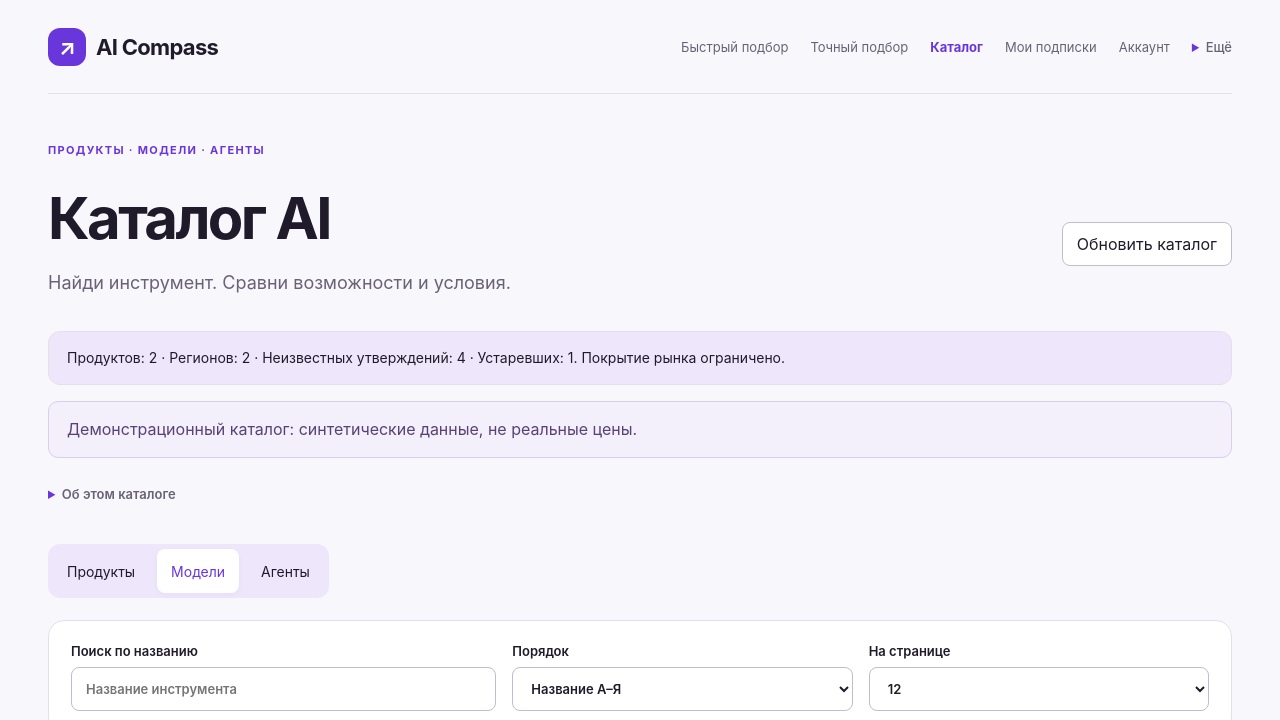
Test: separates models and agents from purchasable products
This screenshot has width=1280, height=720.
Click the button "Агенты": (285, 571) x1=247 y1=549 x2=324 y2=593
(page scrolled)
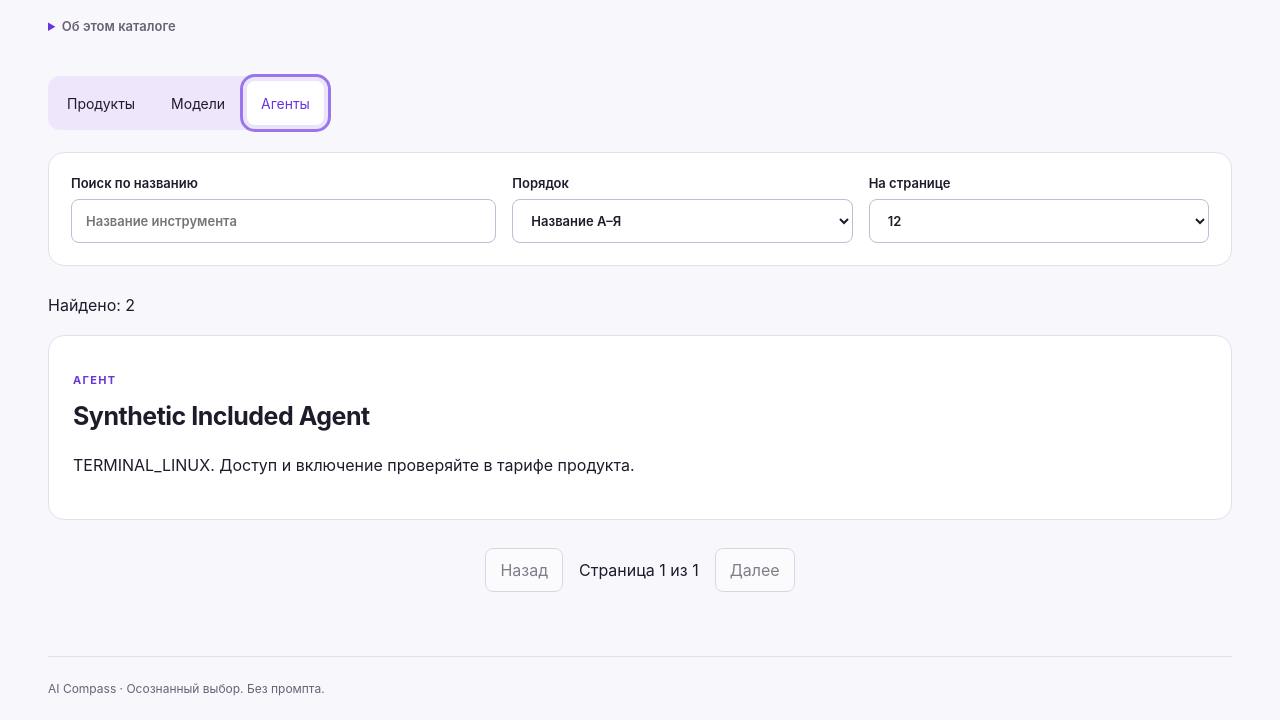
Check: the heading "Synthetic Included Agent" is shown, box x1=73 y1=401 x2=370 y2=431
